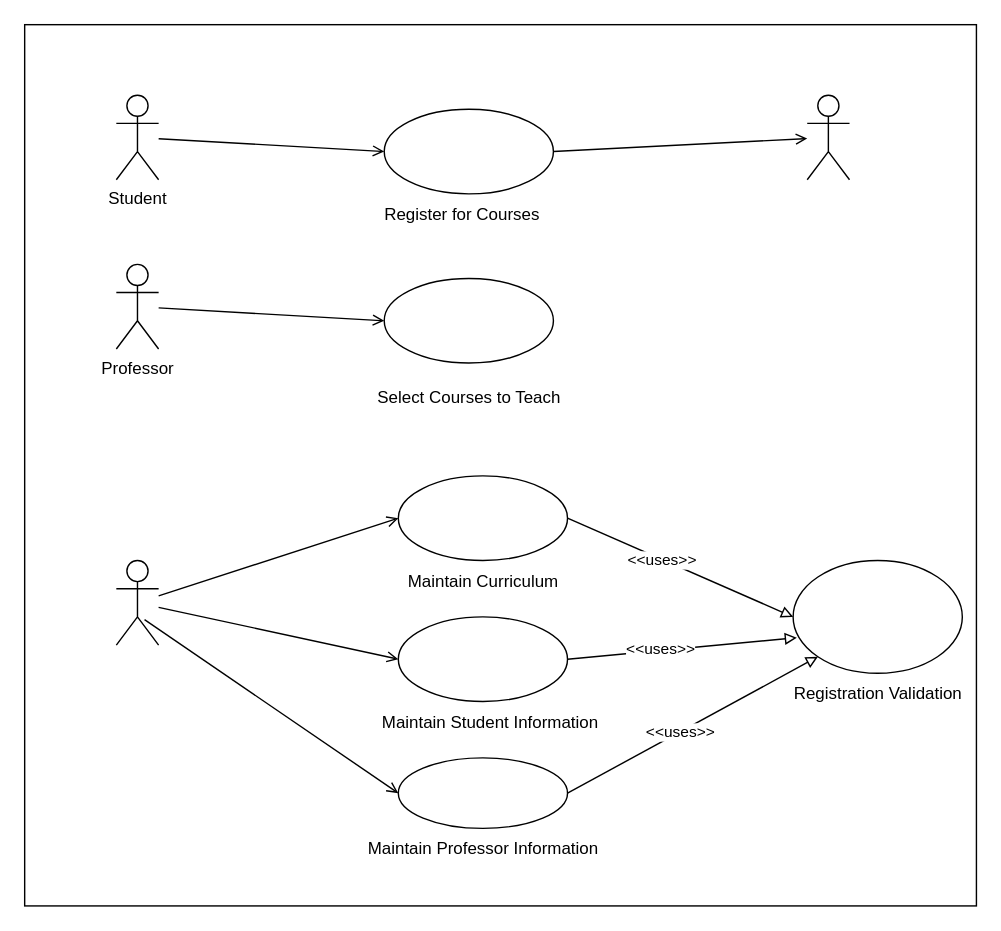
This 1001x931 diagram has some shape labels left out. The shapes that lost their labels are listed below. From the top down, each one's centre as x and y in pixels, then its label:
At point (828, 137): "Billing System".
At point (137, 602): "Registrator".
